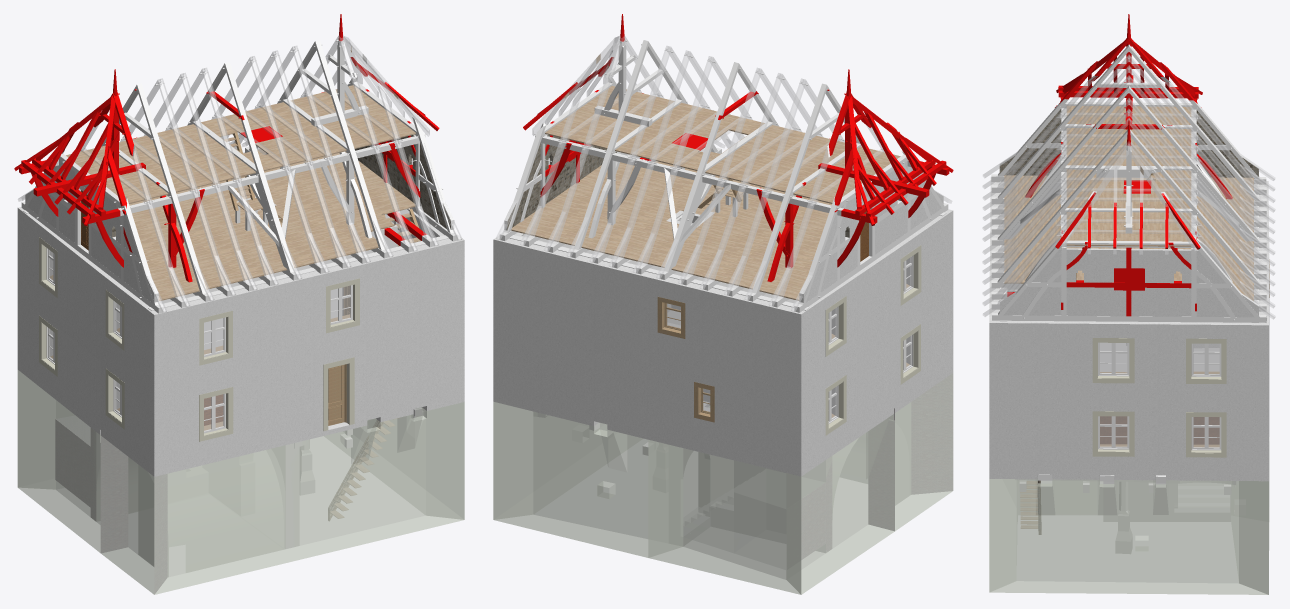
The picture shows the model from 3 angles, left to right: view 1: azimuth 30°, elevation 25°; view 2: azimuth 150°, elevation 25°; view 3: azimuth 270°, elevation 25°; orthographic projection. The views are drawn at different scales.
Visible parts, largest first — view 1: Enduit - Crépis, Transp - Verre vert, Sol - Parquet chène clair, Volume - Maquette blanche, Transp - Verre clair, Peinture - Vermilion, Brique - Blanche naturelle, Peinture - Beige sable, Appareillage - Calcaire, Plastique - PE blanc, Bois - Pin granuleux horizontal, Peinture - Gris clair; view 2: Enduit - Crépis, Transp - Verre vert, Sol - Parquet chène clair, Volume - Maquette blanche, Transp - Verre clair, Peinture - Vermilion, Brique - Blanche naturelle, Transp - Verre, Peinture - Beige sable, Appareillage - Calcaire, Bois - Pin granuleux horizontal, Plastique - PE blanc (+1 smaller); view 3: Enduit - Crépis, Transp - Verre vert, Transp - Verre clair, Volume - Maquette blanche, Sol - Parquet chène clair, Peinture - Vermilion, Peinture - Beige sable, Appareillage - Calcaire, Plastique - PE blanc, Bois - Chêne, Peinture - Gris clair, Bois - Pin granuleux horizontal.
Part boxes in pixels (x1=…): Enduit - Crépis: x1=17, y1=134, x2=464, y2=476; Transp - Verre vert: x1=17, y1=370, x2=464, y2=594; Sol - Parquet chène clair: x1=66, y1=85, x2=420, y2=518; Volume - Maquette blanche: x1=21, y1=39, x2=458, y2=548; Transp - Verre clair: x1=18, y1=34, x2=462, y2=430; Peinture - Vermilion: x1=14, y1=14, x2=439, y2=282; Brique - Blanche naturelle: x1=55, y1=419, x2=167, y2=594; Peinture - Beige sable: x1=39, y1=221, x2=398, y2=441; Appareillage - Calcaire: x1=63, y1=135, x2=450, y2=237; Plastique - PE blanc: x1=46, y1=220, x2=399, y2=433; Bois - Pin granuleux horizontal: x1=50, y1=46, x2=420, y2=430; Peinture - Gris clair: x1=159, y1=209, x2=409, y2=349; Enduit - Crépis: x1=493, y1=134, x2=953, y2=476; Transp - Verre vert: x1=493, y1=373, x2=953, y2=594; Sol - Parquet chène clair: x1=511, y1=86, x2=900, y2=300; Volume - Maquette blanche: x1=499, y1=39, x2=948, y2=552; Transp - Verre clair: x1=496, y1=35, x2=952, y2=418; Peinture - Vermilion: x1=523, y1=14, x2=953, y2=281; Brique - Blanche naturelle: x1=801, y1=373, x2=953, y2=559; Transp - Verre: x1=684, y1=492, x2=785, y2=569; Peinture - Beige sable: x1=825, y1=245, x2=921, y2=435; Appareillage - Calcaire: x1=507, y1=135, x2=901, y2=237; Bois - Pin granuleux horizontal: x1=564, y1=54, x2=909, y2=422; Plastique - PE blanc: x1=828, y1=255, x2=913, y2=423; Enduit - Crépis: x1=989, y1=153, x2=1269, y2=481; Transp - Verre vert: x1=989, y1=437, x2=1269, y2=594; Transp - Verre clair: x1=982, y1=54, x2=1275, y2=447; Volume - Maquette blanche: x1=991, y1=44, x2=1266, y2=553; Sol - Parquet chène clair: x1=1004, y1=105, x2=1253, y2=528; Peinture - Vermilion: x1=1007, y1=14, x2=1232, y2=316; Peinture - Beige sable: x1=1092, y1=338, x2=1226, y2=457; Appareillage - Calcaire: x1=999, y1=109, x2=1258, y2=281; Plastique - PE blanc: x1=1098, y1=342, x2=1221, y2=450; Bois - Chêne: x1=1100, y1=416, x2=1219, y2=444; Peinture - Gris clair: x1=1007, y1=289, x2=1219, y2=372; Bois - Pin granuleux horizontal: x1=1088, y1=166, x2=1269, y2=447.
Size of the model in its own units: 13.96 by 16.8 by 9.95.
23 materials, 13 textured.
